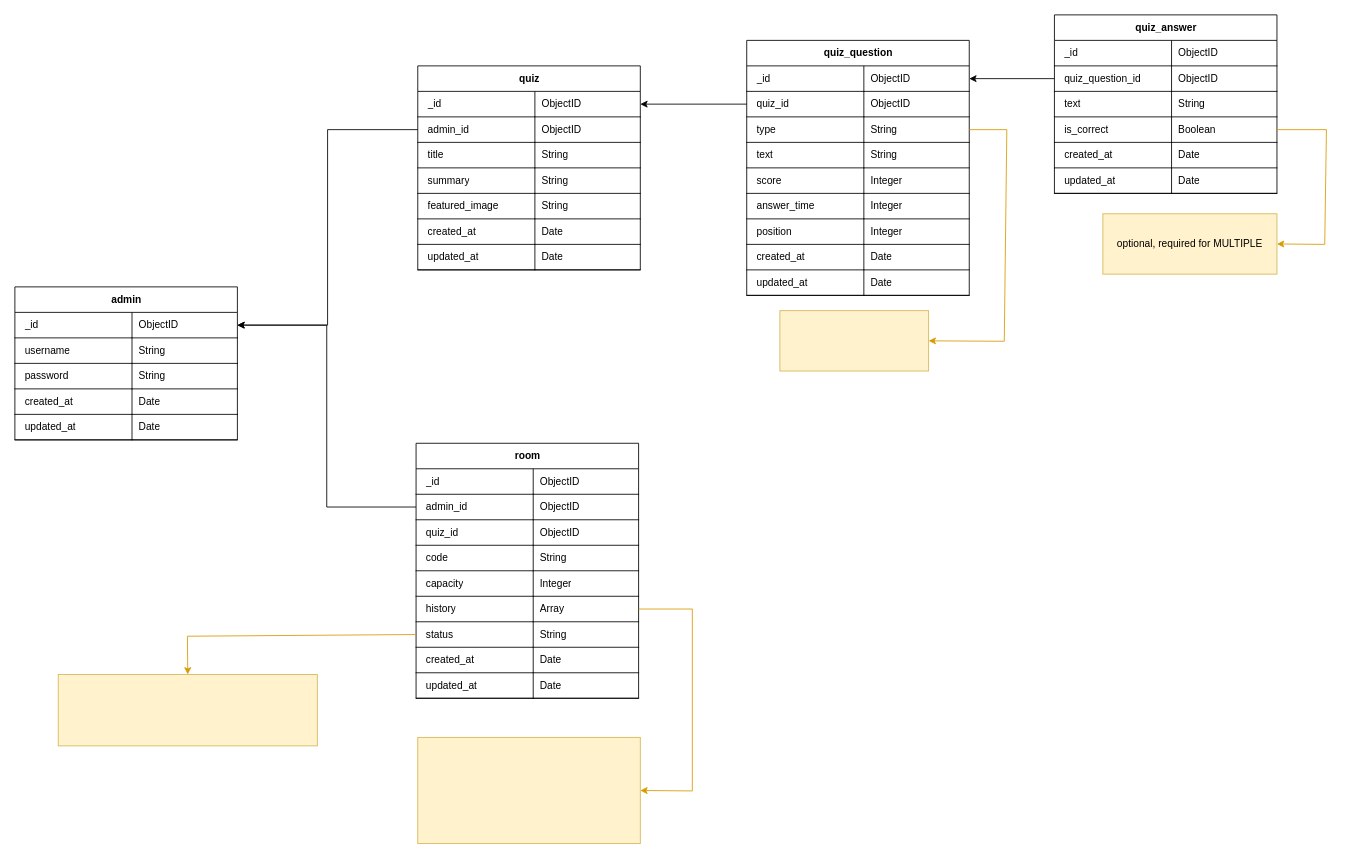
Image size: 1348x859. Some labels were removed from this diagram. Here are the shapes that lost their labels. From the top down, the centre of each, then its label:
[854,340]: { type: String, enum: [" MULTIPLE ", " FILL "] }
[187,710]: { type: String, enum: [" WAITING ", " RUNNING ", " FINISHED "] }
[528,790]: [ { name: String, final_score: Integer } ... ]
